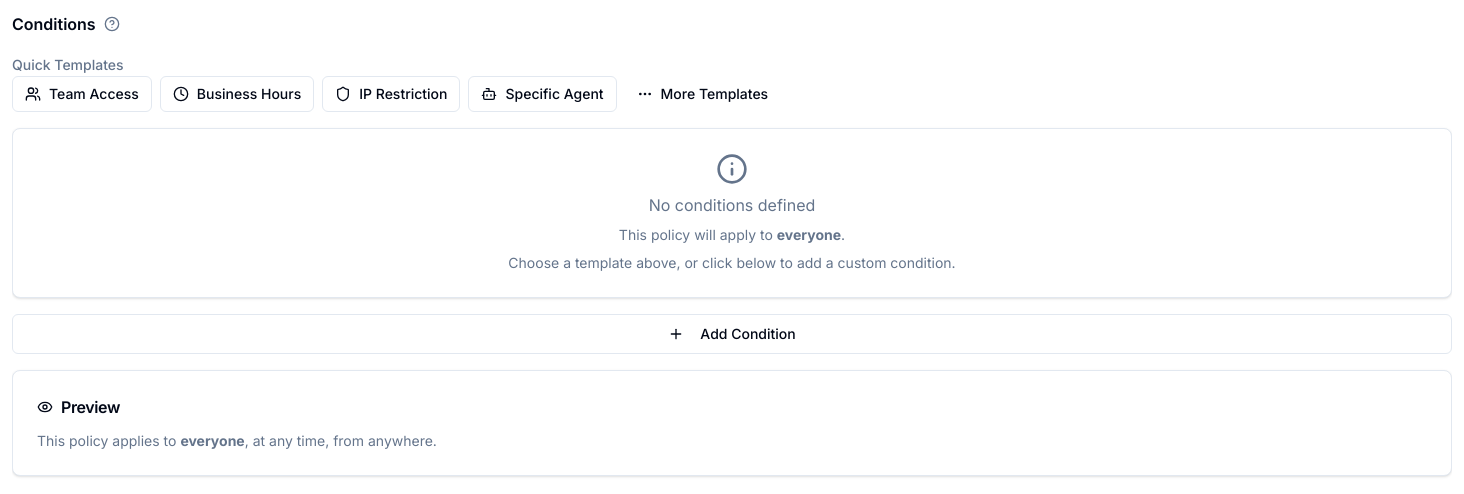
it: ConditionsSection › adding conditions › adds a condition when clicking Add Condition
Click the button "Add Condition": coordinates (732, 334) [12,314,1452,354]
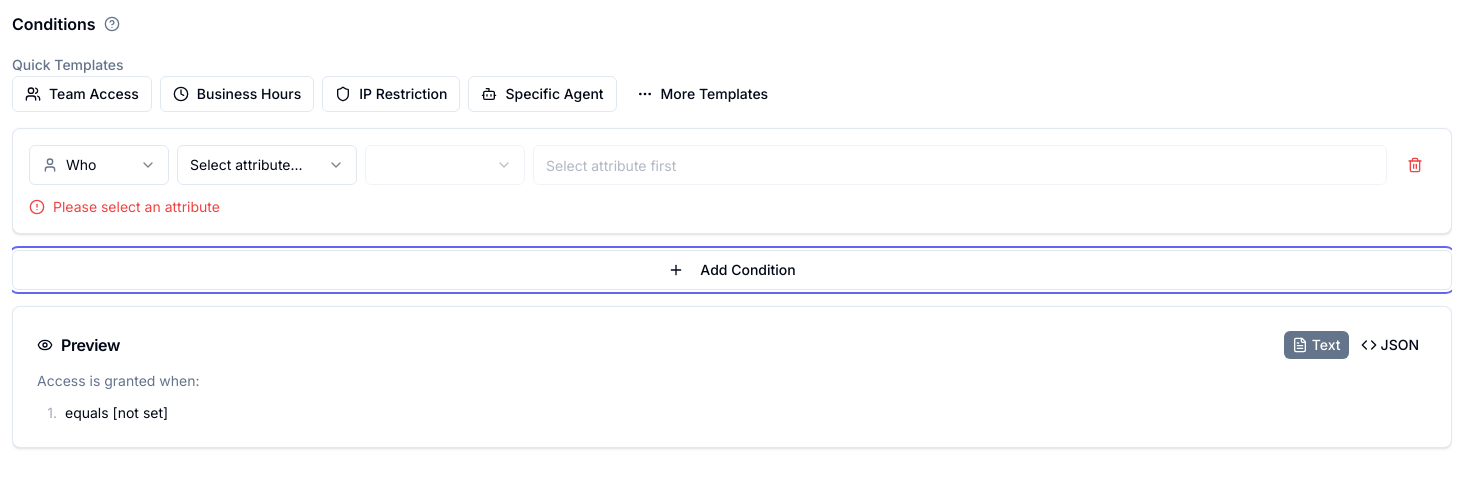
Check: the text "No conditions defined" is gone
